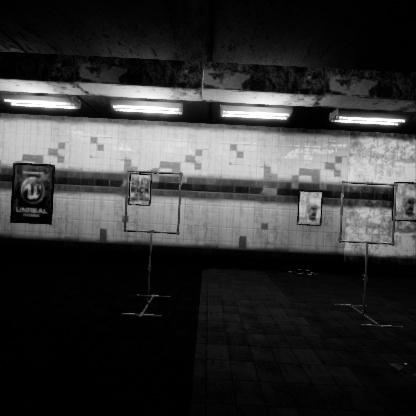gate: (124, 180, 187, 246), (339, 170, 402, 235)
